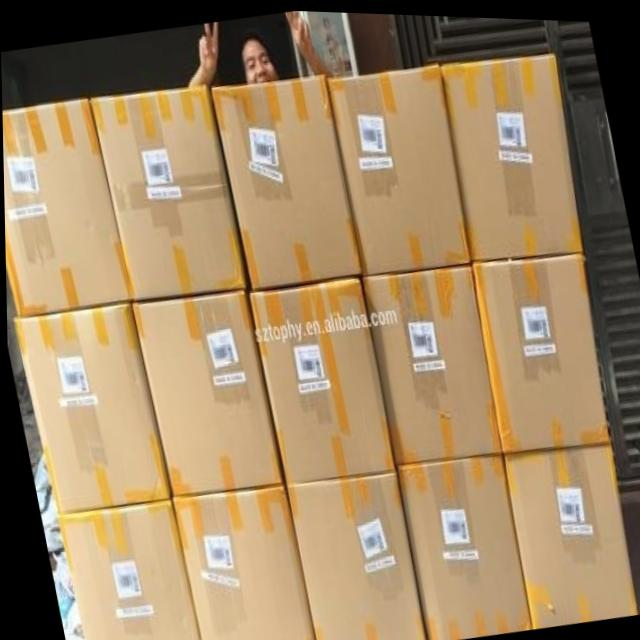box: (90, 83, 245, 301), (12, 301, 168, 515), (127, 288, 284, 499), (210, 68, 359, 289), (245, 273, 393, 482), (326, 61, 470, 272), (441, 50, 582, 261), (2, 96, 134, 315), (361, 261, 499, 465), (470, 249, 607, 450), (500, 436, 633, 623), (283, 468, 426, 640), (394, 454, 528, 637), (169, 481, 311, 640), (54, 496, 197, 640)
